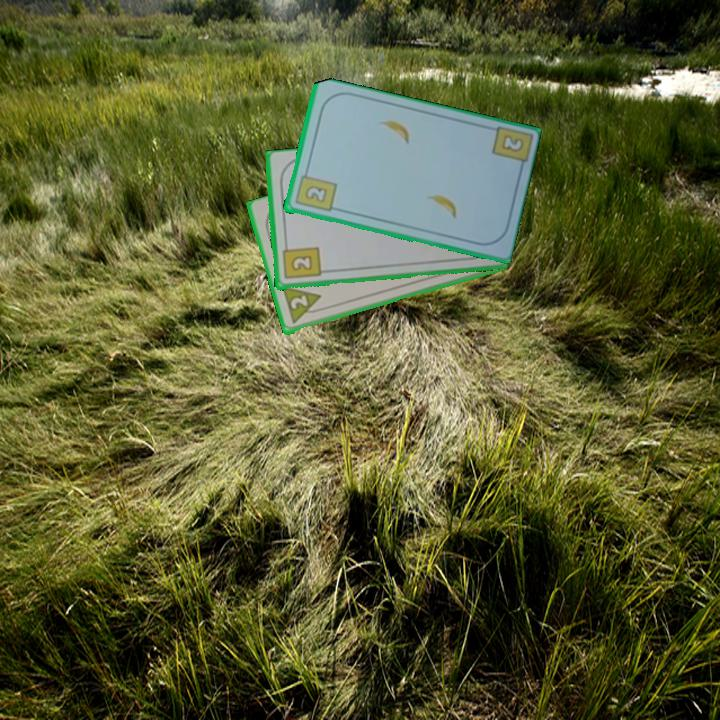2b: (291, 166, 339, 215), (279, 240, 323, 282), (497, 131, 526, 155)
2p: (279, 284, 327, 327)
